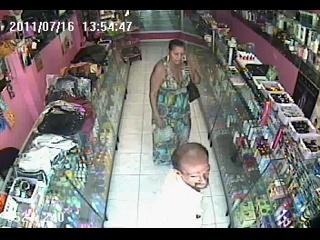Normal: (149, 39, 206, 165), (150, 142, 210, 228)
